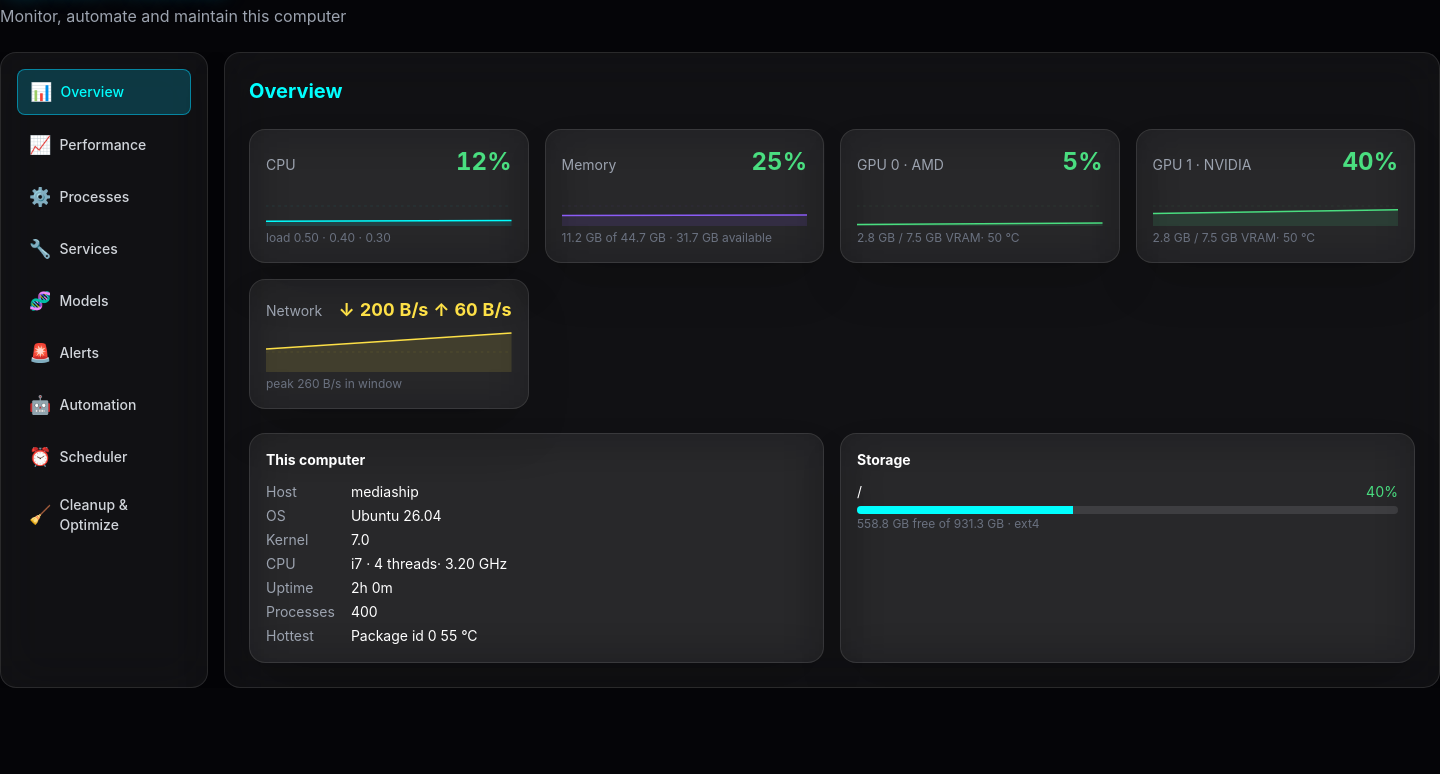
Scenario: SystemControlView › shows agent and model metrics on the Performance tab
Expected: the text "GPU 0 · AMD" is shown, [857,155,944,175]
Click the button "📈 Performance". click: (104,145)
box: [17,123,191,167]
(page scrolled)
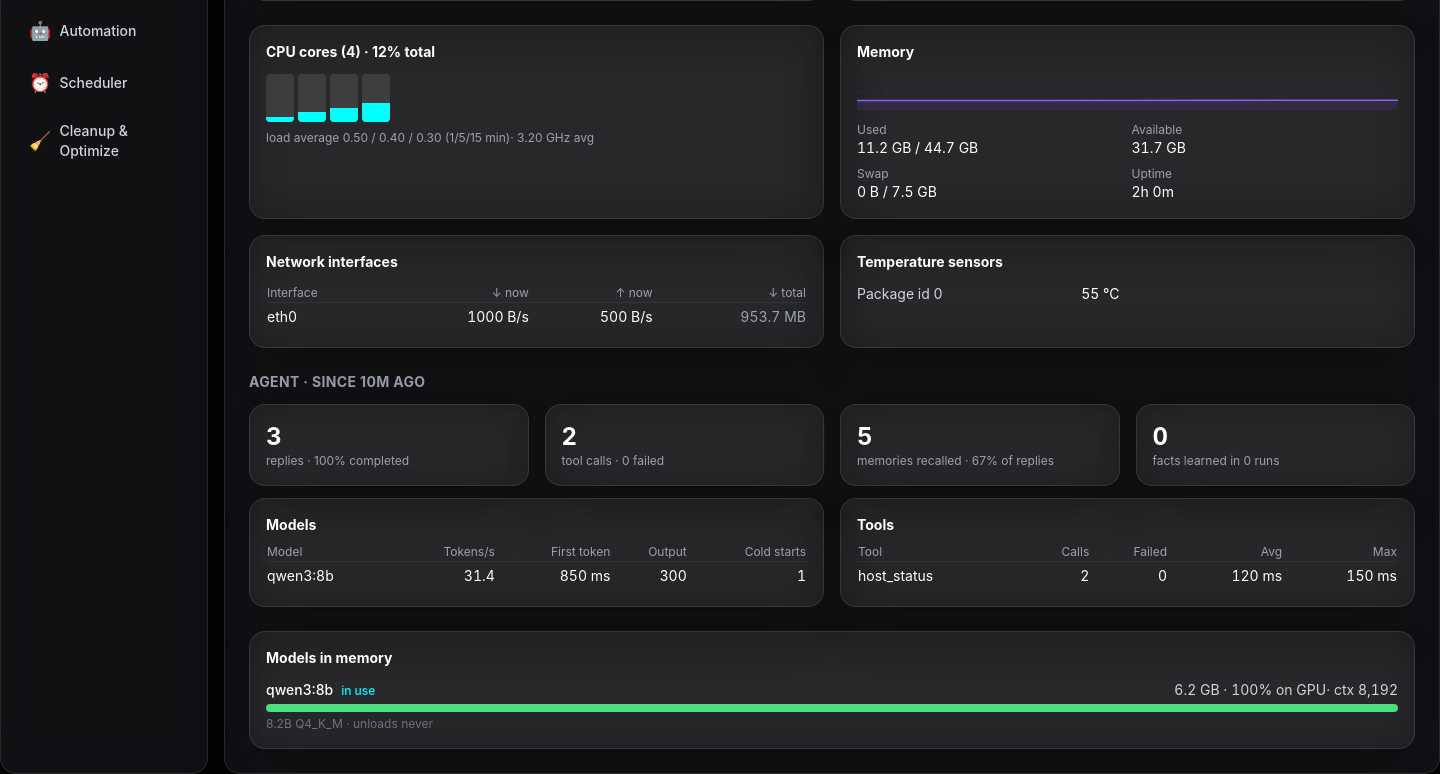
Now the text "31.4" is shown, box [395,562,496,590]
Now the text "host_status" is shown, box [857,562,1026,590]
